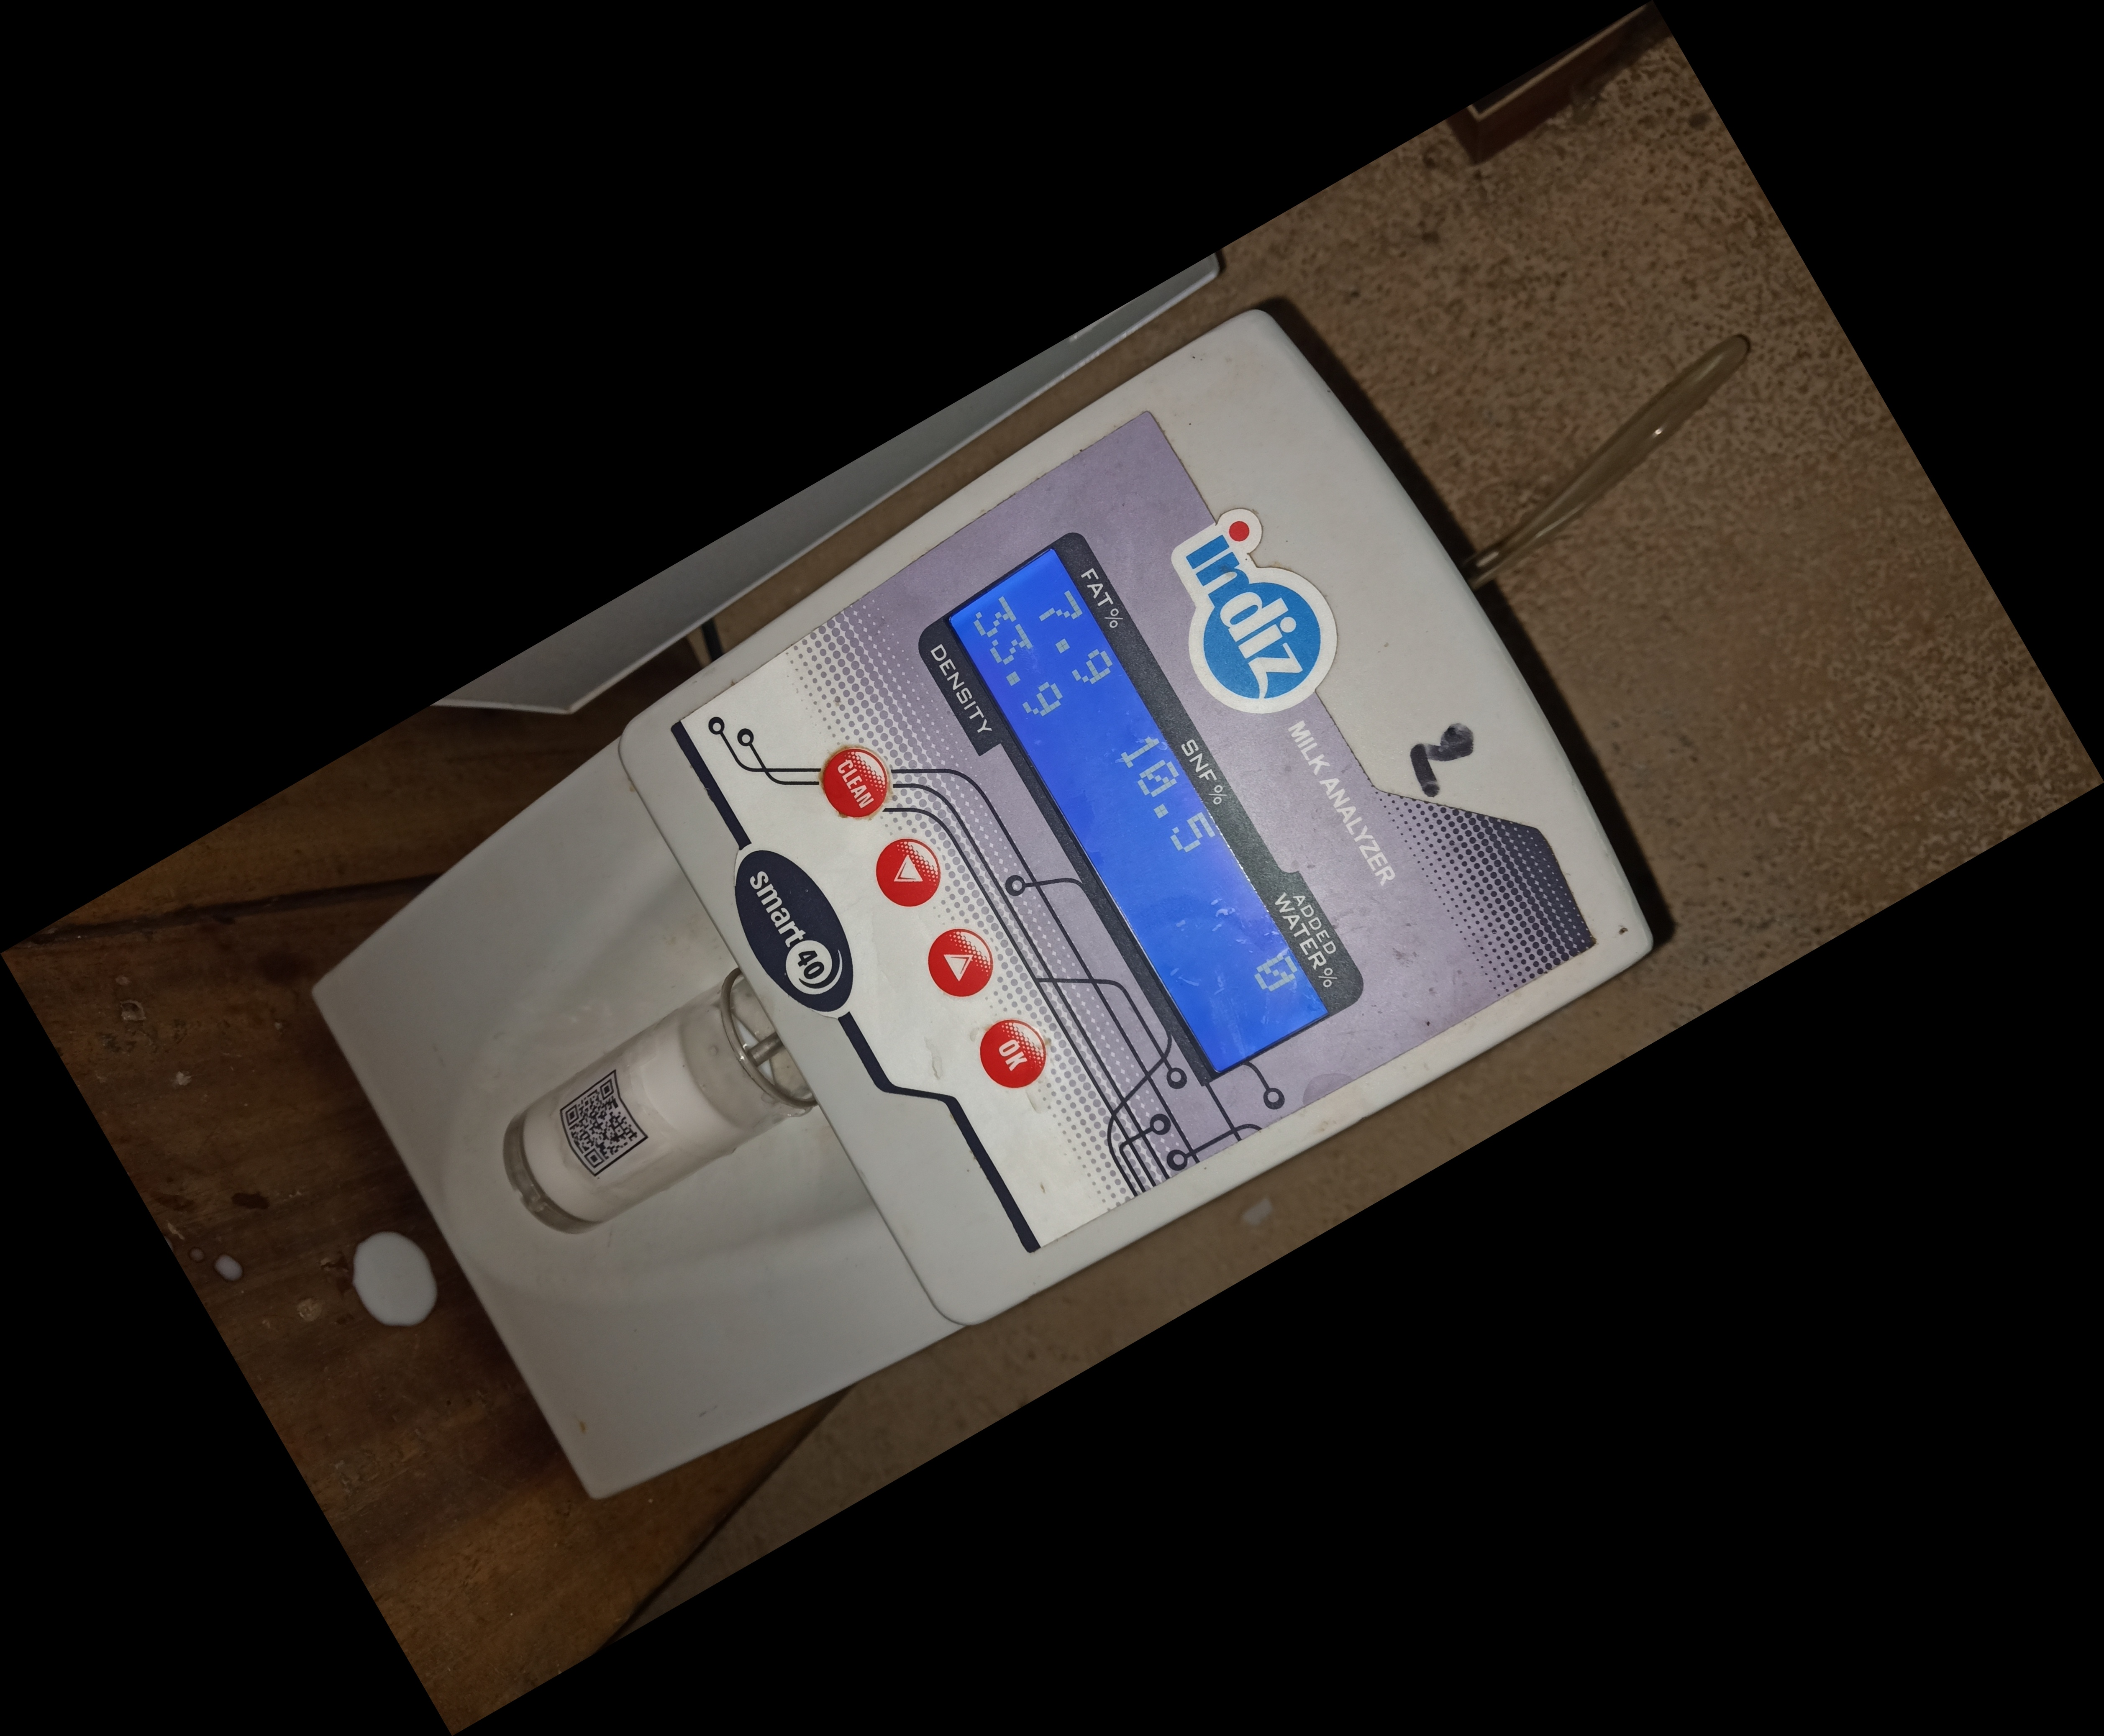lcd: (914, 505, 1402, 1102)
qr: (529, 1051, 673, 1182)
